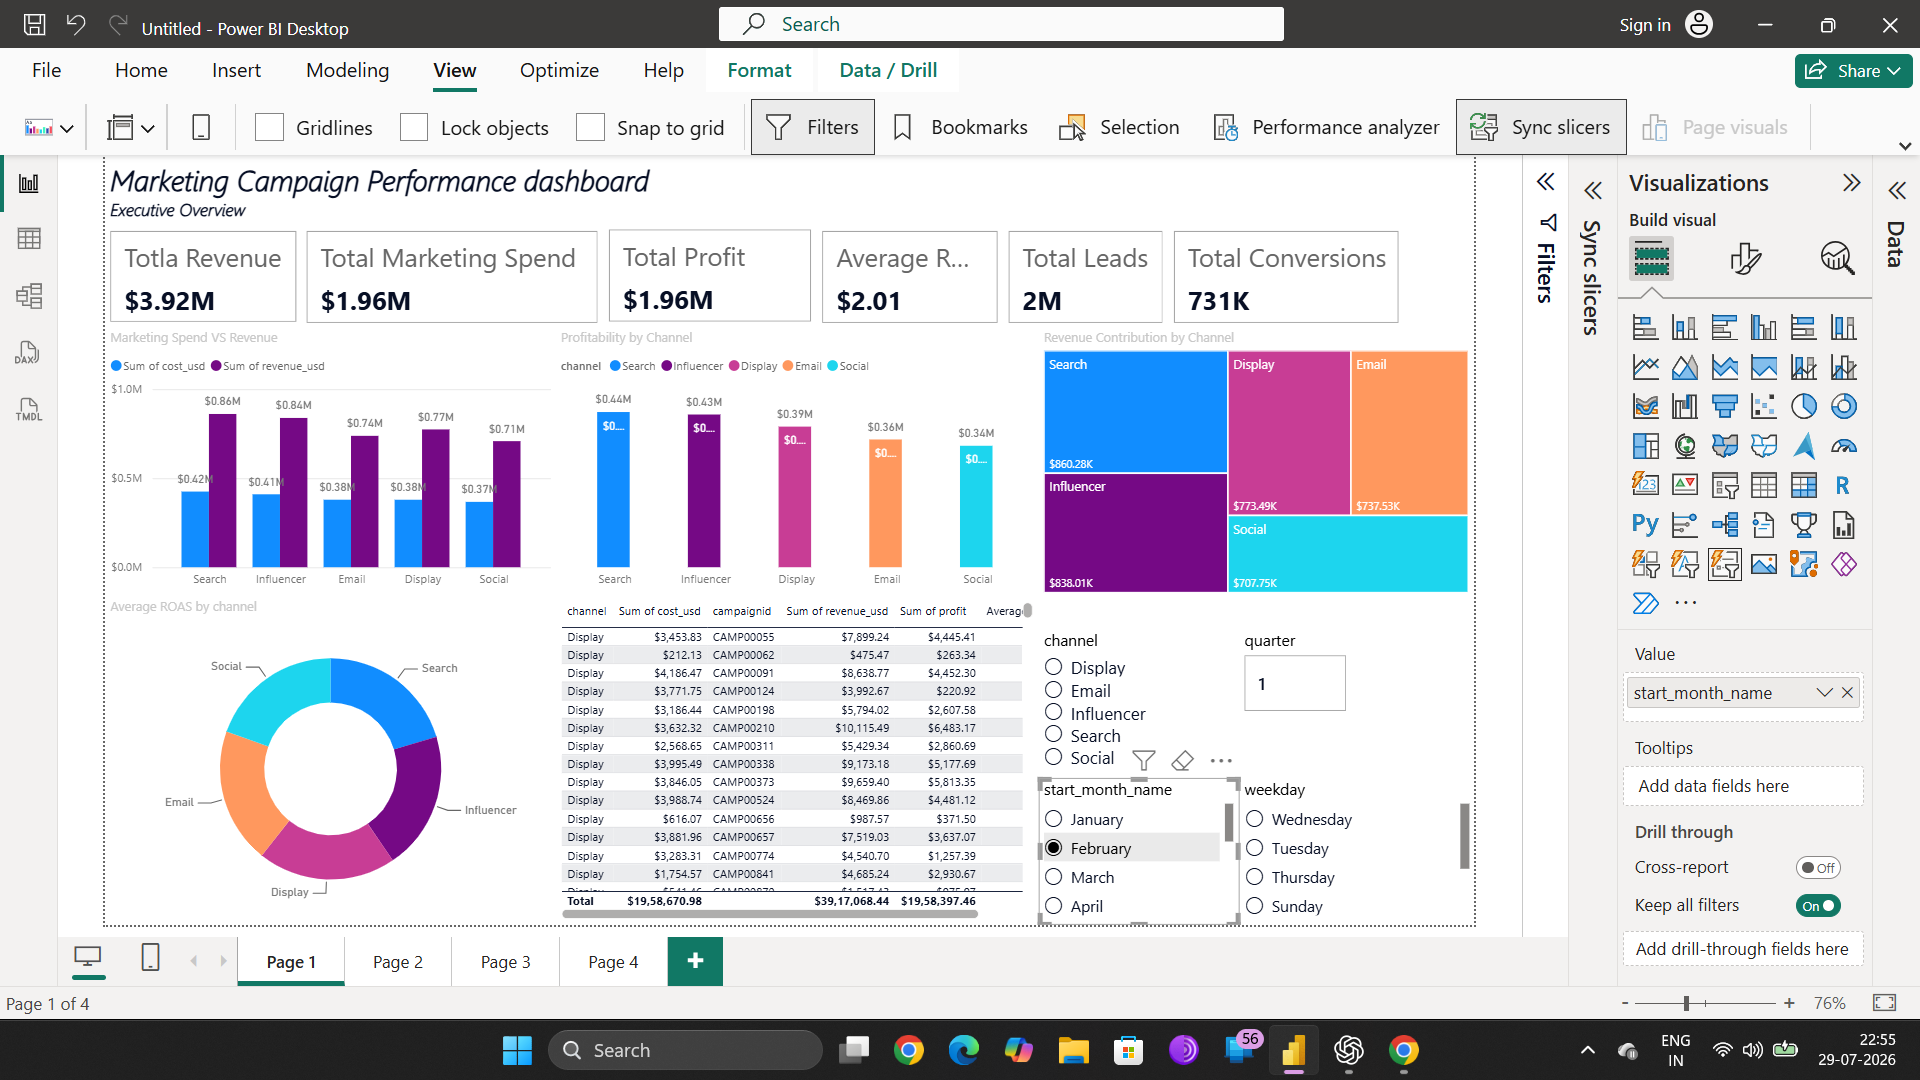

The dashboard page shown, as its layout file describes it:
{"tool":"powerbi","page":{"name":"Page 1","canvas":[1280,720],"ordinal":0},"visuals":[{"type":"cardVisual","fields":{"Data":["Sum(marketing_campaign_engineered.leads)"]},"box":[840,66,154.5,96.4],"z":0},{"type":"cardVisual","fields":{"Data":["Sum(marketing_campaign_engineered.cost_usd)"]},"box":[183.6,66,282.6,96.4],"z":1000},{"type":"cardVisual","fields":{"Data":["Avg(marketing_campaign_engineered.roas)"]},"box":[665.7,66,174.3,96.4],"z":2000},{"type":"cardVisual","fields":{"Data":["Sum(marketing_campaign_engineered.conversions)"]},"box":[994.5,66,220.6,96.4],"z":3000},{"type":"cardVisual","fields":{"Data":["Sum(marketing_campaign_engineered.profit)"]},"box":[466.2,64.7,199.4,96.4],"z":4000},{"type":"cardVisual","fields":{"Data":["Sum(marketing_campaign_engineered.revenue_usd)"]},"box":[0,66.4,184,95.5],"z":5000},{"type":"textbox","box":[0,0,1170.5,66.4],"z":6000},{"type":"treemap","title":"Revenue Contribution by Channel","fields":{"Values":["Sum(marketing_campaign_engineered.revenue_usd)"],"Group":["marketing_campaign_engineered.channel"]},"box":[873,161.9,406.8,251.8],"z":7000},{"type":"clusteredColumnChart","title":"Marketing Spend VS Revenue","fields":{"Category":["marketing_campaign_engineered.channel"],"Y":["Sum(marketing_campaign_engineered.cost_usd)","Sum(marketing_campaign_engineered.revenue_usd)"]},"box":[0,161.9,422,251.8],"z":8000},{"type":"ribbonChart","title":"Profitability by Channel","fields":{"Category":["marketing_campaign_engineered.channel"],"Series":["marketing_campaign_engineered.channel"],"Y":["Sum(marketing_campaign_engineered.profit)"]},"box":[422,161.9,451,251.8],"z":9000},{"type":"donutChart","title":"Average ROAS by channel","fields":{"Category":["marketing_campaign_engineered.channel"],"Y":["Avg(marketing_campaign_engineered.roas)"]},"box":[0,413.7,422,305.8],"z":10000},{"type":"tableEx","fields":{"Values":["marketing_campaign_engineered.channel","Sum(marketing_campaign_engineered.cost_usd)","marketing_campaign_engineered.campaignid","Sum(marketing_campaign_engineered.revenue_usd)","Sum(marketing_campaign_engineered.profit)","Avg(marketing_campaign_engineered.roas)"]},"box":[422,413.7,451,305.8],"z":11000},{"type":"advancedSlicerVisual","fields":{"Values":["marketing_campaign_engineered.quarter"]},"box":[1060,444.3,220,138.6],"z":11001},{"type":"listSlicer","fields":{"Values":["marketing_campaign_engineered.channel"]},"box":[872.9,444.3,187.1,138.6],"z":11002},{"type":"listSlicer","fields":{"Values":["marketing_campaign_engineered.start_month_name"]},"box":[872.9,582.9,187.1,137.1],"z":11003},{"type":"listSlicer","fields":{"Values":["marketing_campaign_engineered.weekday"]},"box":[1060,582.9,220,137.1],"z":11004}]}

Visuals, with their boxes on the page's 1280x720 design canvas (x1, y1, x2, y2). These are canvas units, not pixel positions in the 1920x1080 screenshot, which may show the page scaled, cropped or inside an application window:
cardVisual - Sum(marketing_campaign_engineered.leads): <bbox>840, 66, 994, 162</bbox>
cardVisual - Sum(marketing_campaign_engineered.cost_usd): <bbox>184, 66, 466, 162</bbox>
cardVisual - Avg(marketing_campaign_engineered.roas): <bbox>666, 66, 840, 162</bbox>
cardVisual - Sum(marketing_campaign_engineered.conversions): <bbox>994, 66, 1215, 162</bbox>
cardVisual - Sum(marketing_campaign_engineered.profit): <bbox>466, 65, 666, 161</bbox>
cardVisual - Sum(marketing_campaign_engineered.revenue_usd): <bbox>0, 66, 184, 162</bbox>
textbox: <bbox>0, 0, 1170, 66</bbox>
"Revenue Contribution by Channel" treemap: <bbox>873, 162, 1280, 414</bbox>
"Marketing Spend VS Revenue" clusteredColumnChart: <bbox>0, 162, 422, 414</bbox>
"Profitability by Channel" ribbonChart: <bbox>422, 162, 873, 414</bbox>
"Average ROAS by channel" donutChart: <bbox>0, 414, 422, 720</bbox>
tableEx - marketing_campaign_engineered.channel x Sum(marketing_campaign_engineered.cost_usd): <bbox>422, 414, 873, 720</bbox>
advancedSlicerVisual - marketing_campaign_engineered.quarter: <bbox>1060, 444, 1280, 583</bbox>
listSlicer - marketing_campaign_engineered.channel: <bbox>873, 444, 1060, 583</bbox>
listSlicer - marketing_campaign_engineered.start_month_name: <bbox>873, 583, 1060, 720</bbox>
listSlicer - marketing_campaign_engineered.weekday: <bbox>1060, 583, 1280, 720</bbox>
